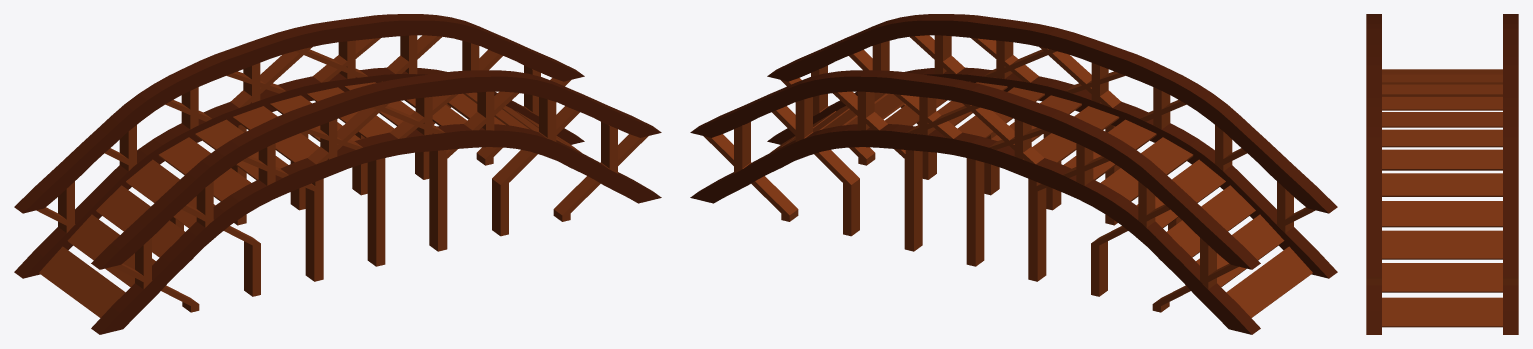
The model's file is kopru.fbx.
3 renders of one model, left to right at view 1: azimuth 30°, elevation 25°; view 2: azimuth 150°, elevation 25°; view 3: azimuth 270°, elevation 25°, orthographic. The views are drawn at different scales.
Visible parts, largest first — view 1: Bridge; view 2: Bridge; view 3: Bridge.
Boxes of the visible parts, x1,y1,x2,y2 form: Bridge: (14, 14, 661, 334); Bridge: (690, 14, 1337, 334); Bridge: (1366, 14, 1518, 334).
Size of the model in its own units: 904 by 270 by 239.
